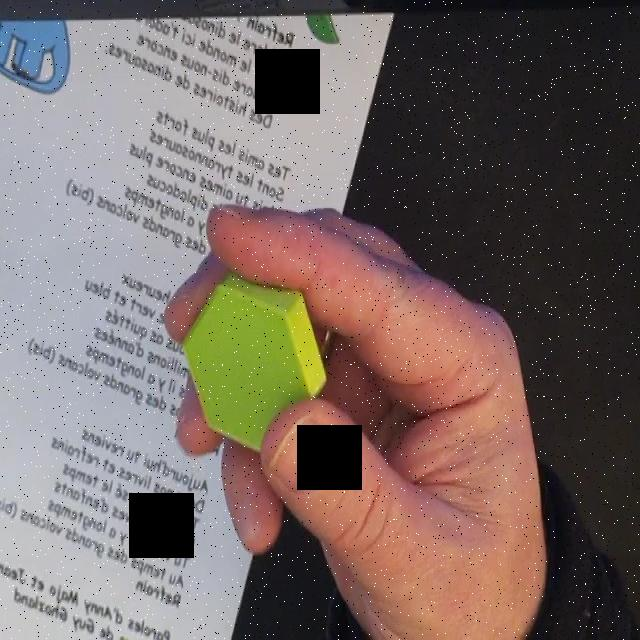hexagon: (180, 278, 326, 456)
